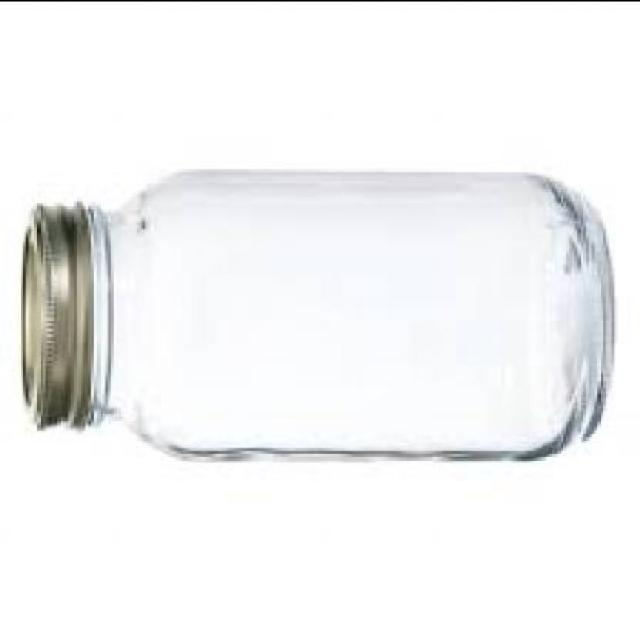GLASS: (80, 165, 608, 461)
METAL: (18, 199, 79, 424)
